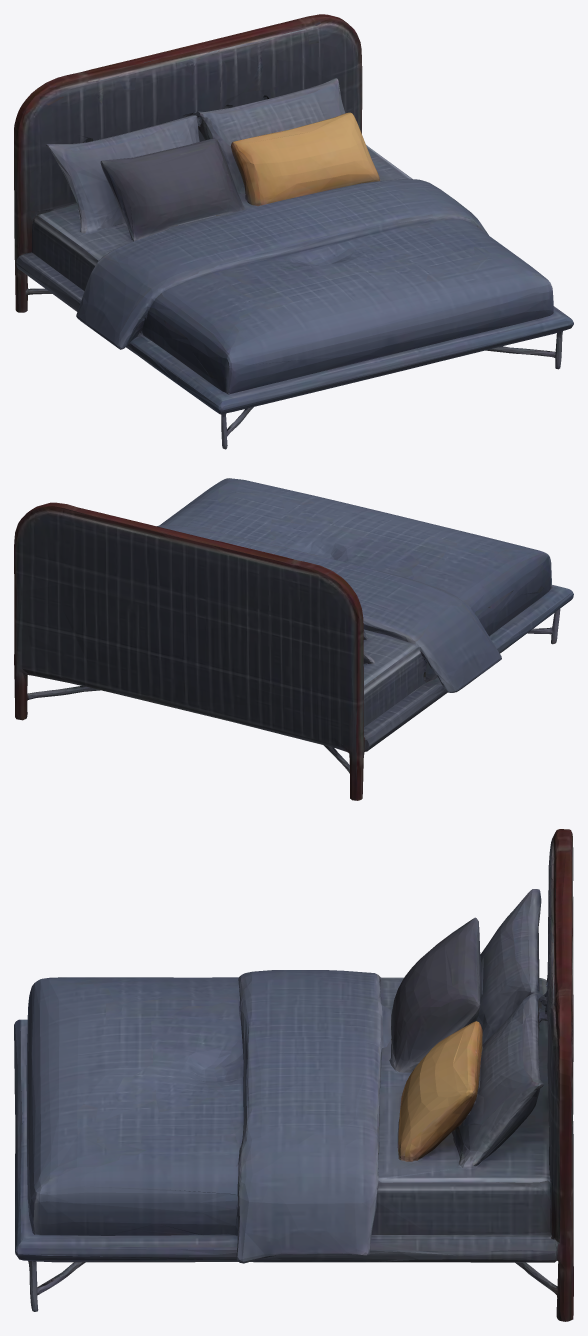
The picture shows the model from 3 angles, top to bottom: view 1: azimuth 30°, elevation 25°; view 2: azimuth 150°, elevation 25°; view 3: azimuth 270°, elevation 25°; orthographic projection. The views are drawn at different scales.
Parts seen in each view (by area): view 1: geometry_0; view 2: geometry_0; view 3: geometry_0.
Boxes of the visible parts, x1,y1,x2,y2 form: geometry_0: [14, 14, 573, 449]; geometry_0: [14, 478, 573, 800]; geometry_0: [14, 829, 573, 1321].
Size of the model in its own units: 0.9917 by 0.5496 by 0.9472.
Materials: 1 (1 with a texture image).
